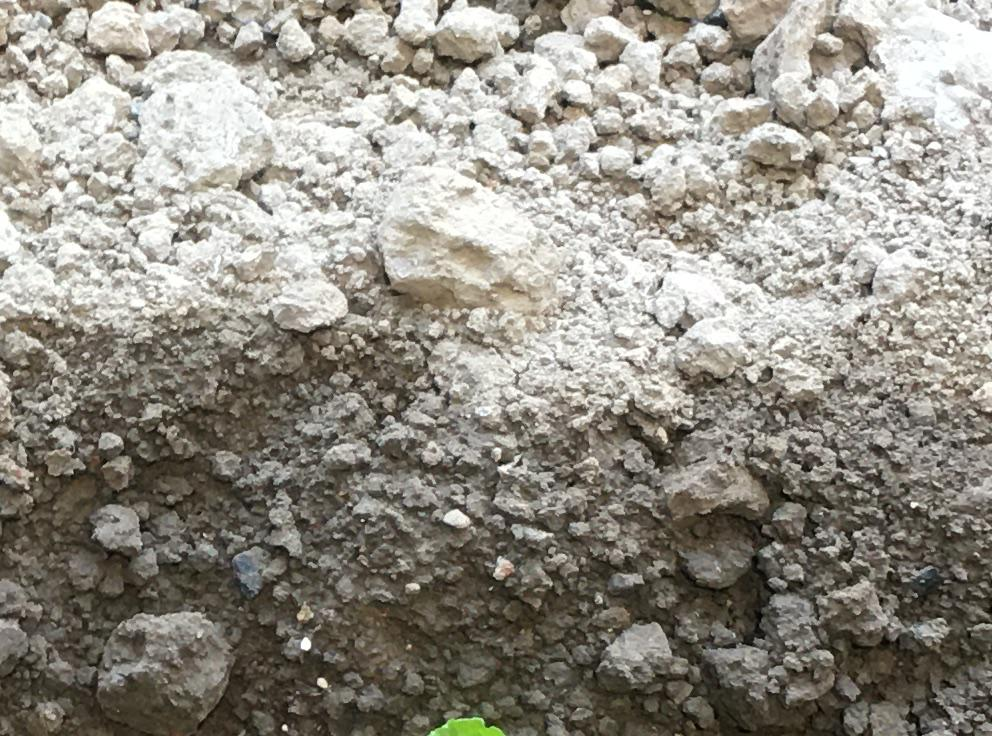block: (383, 163, 532, 303), (93, 608, 231, 727)
